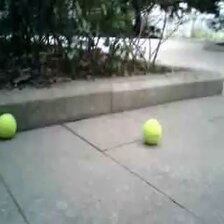tennis: (142, 117, 161, 142), (1, 113, 17, 141)
